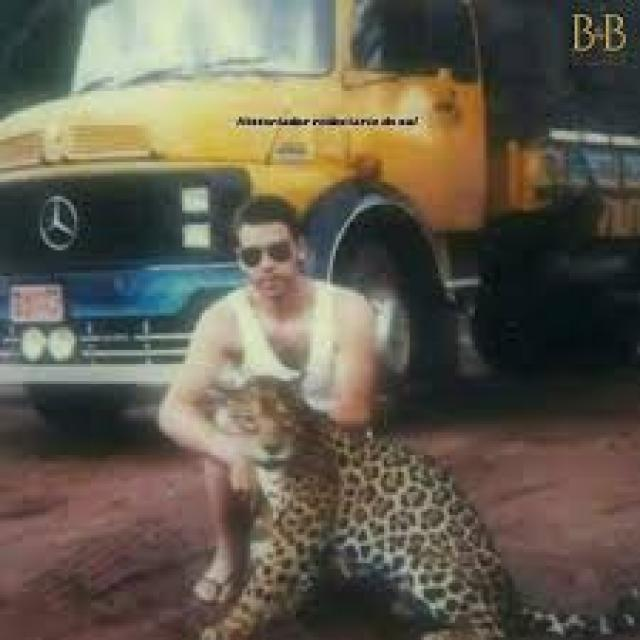Jaguar: (213, 375, 509, 640)
